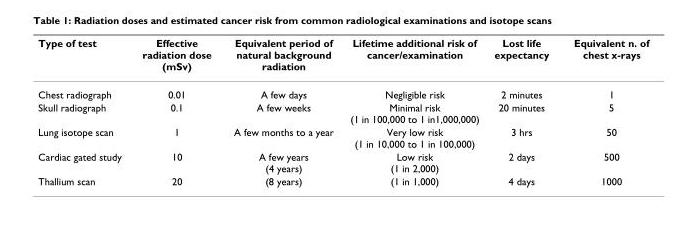table: (37, 36, 648, 186)
table column: (341, 36, 486, 186), (221, 36, 341, 186), (37, 36, 131, 186), (131, 36, 221, 186), (560, 36, 648, 186), (486, 36, 560, 186)
table column header: (37, 36, 648, 79)
table row: (37, 36, 648, 79), (37, 100, 648, 125), (37, 149, 648, 174), (37, 125, 648, 149), (37, 79, 648, 100), (37, 174, 648, 186)
